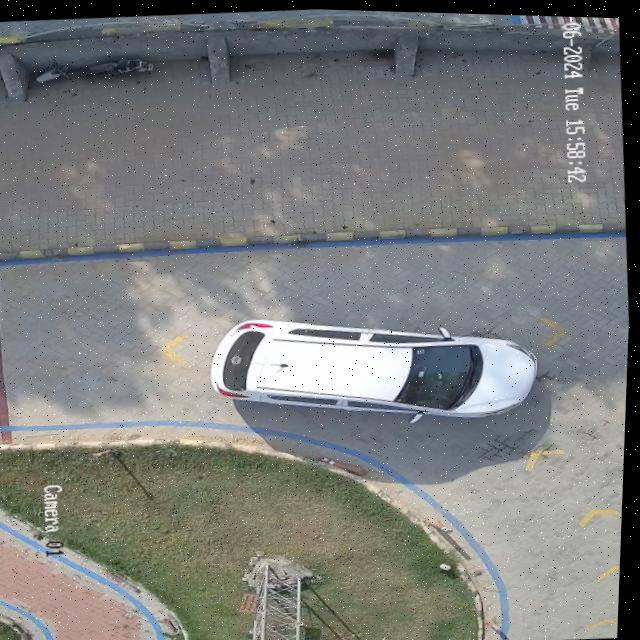car: (212, 318, 537, 419)
